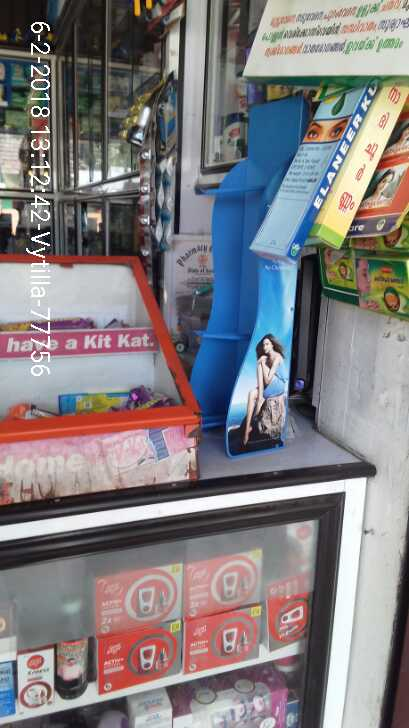reject: (154, 109, 242, 214)
